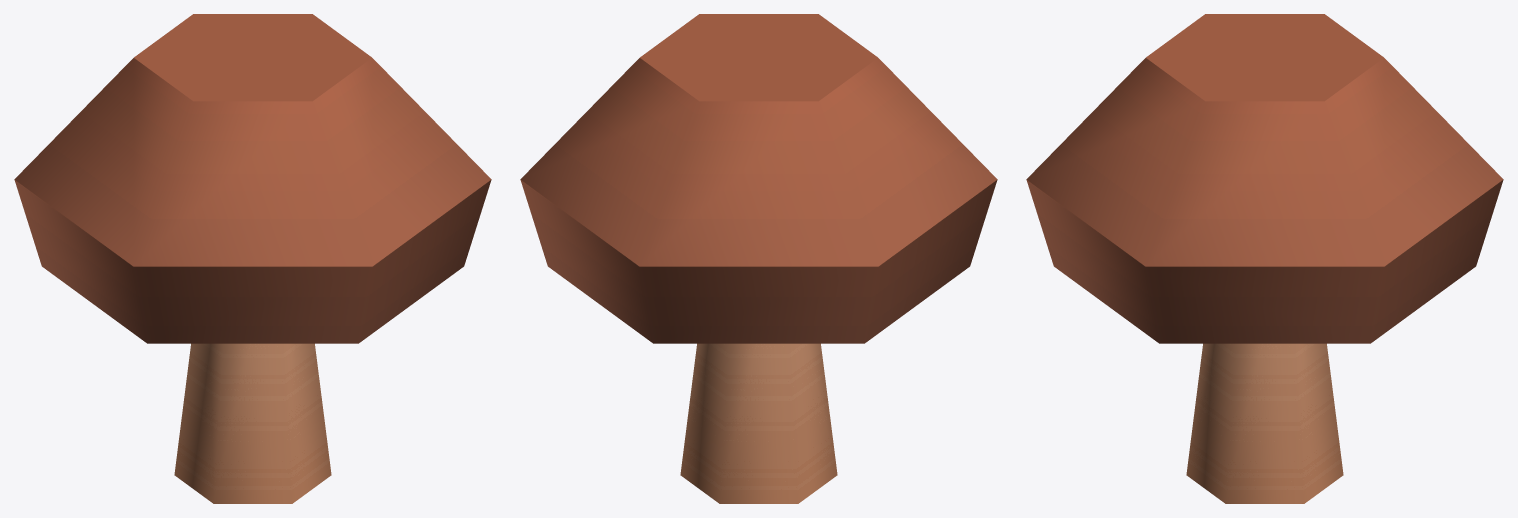
The model's file is food-mushroom.glb.
The picture shows the model from 3 angles, left to right: view 1: azimuth 30°, elevation 25°; view 2: azimuth 150°, elevation 25°; view 3: azimuth 270°, elevation 25°; orthographic projection.
Parts seen in each view (by area): view 1: mushroom; view 2: mushroom; view 3: mushroom.
Part boxes in pixels (box(x1,y1,x2,y2)): mushroom: box(14, 14, 491, 503); mushroom: box(520, 14, 997, 503); mushroom: box(1026, 14, 1503, 503).
Bounding box in the file's own units: 0.1249 × 0.1392 × 0.1442.
1 material, 1 textured.
